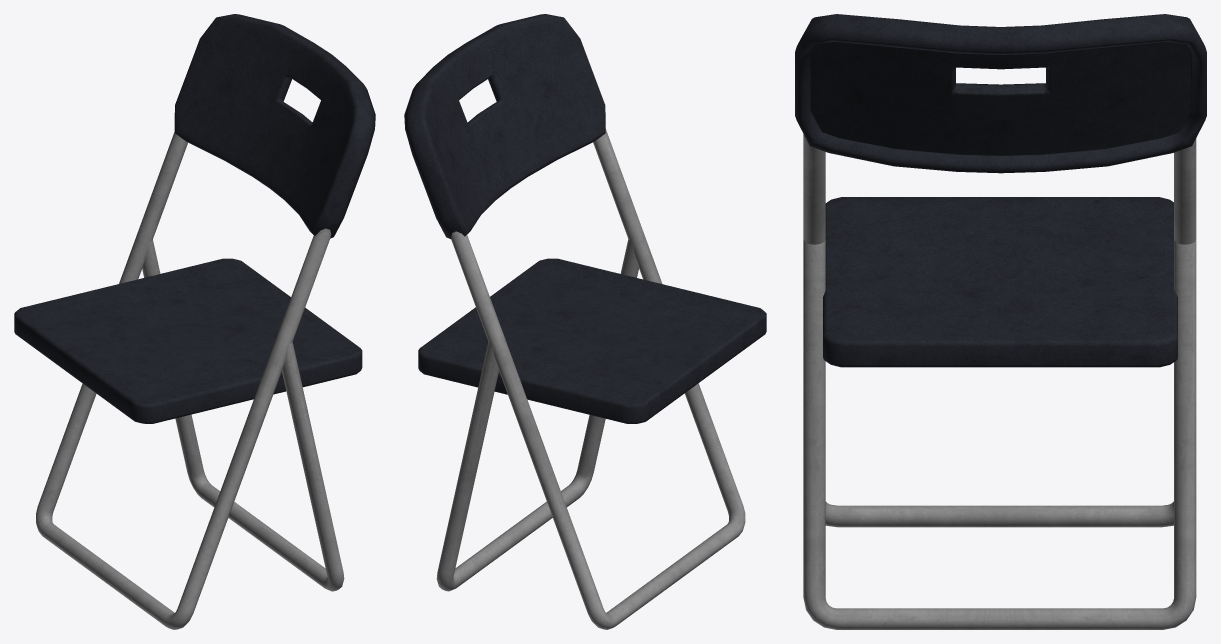
File: SM_085_Editor_Chair.fbx
3 renders of one model, left to right at view 1: azimuth 30°, elevation 25°; view 2: azimuth 150°, elevation 25°; view 3: azimuth 270°, elevation 25°, orthographic. The views are drawn at different scales.
Visible parts, largest first — view 1: SM_085_Editor_Chair; view 2: SM_085_Editor_Chair; view 3: SM_085_Editor_Chair.
Part boxes in pixels (bbox=[...]): SM_085_Editor_Chair: bbox=[14, 14, 375, 629]; SM_085_Editor_Chair: bbox=[404, 14, 766, 629]; SM_085_Editor_Chair: bbox=[795, 14, 1206, 629].
Bounding box in the file's own units: 52.03 × 53.65 × 91.71.
1 material, 1 textured.
